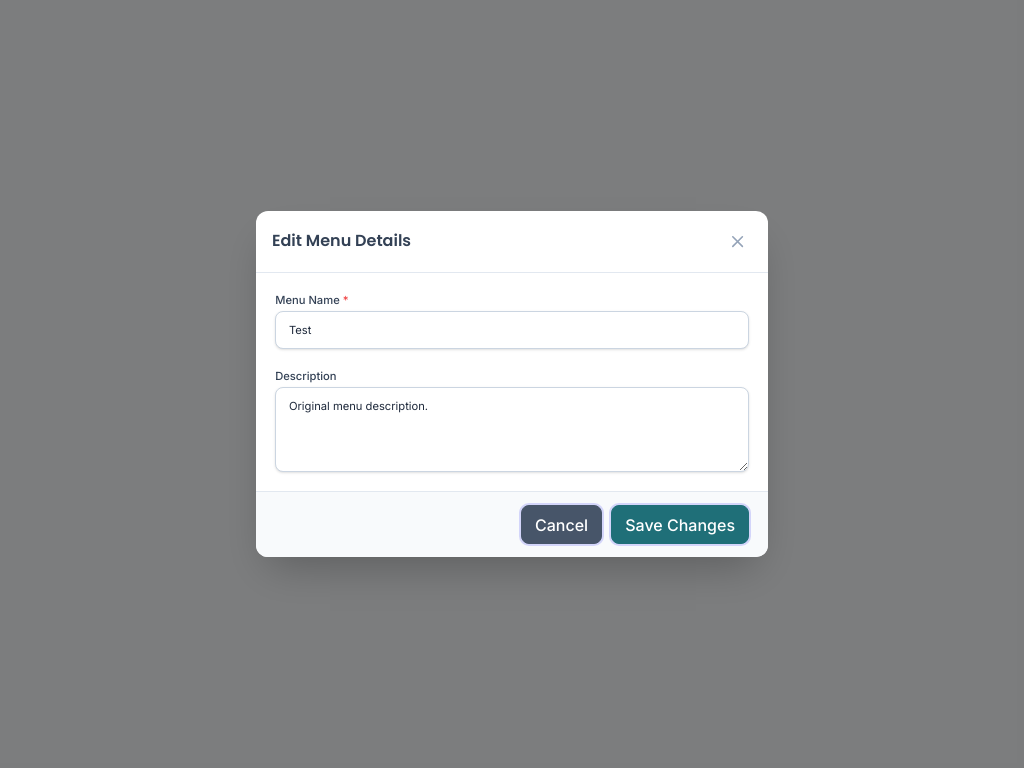
Test: MenuDetailsEditModal Component › enables save button if menu name is not empty
Check: the button "Save Changes" is enabled, box [612,505,749,544]
Clear the field labelled "Menu Name *" at (512, 330), box [275,311,749,349]
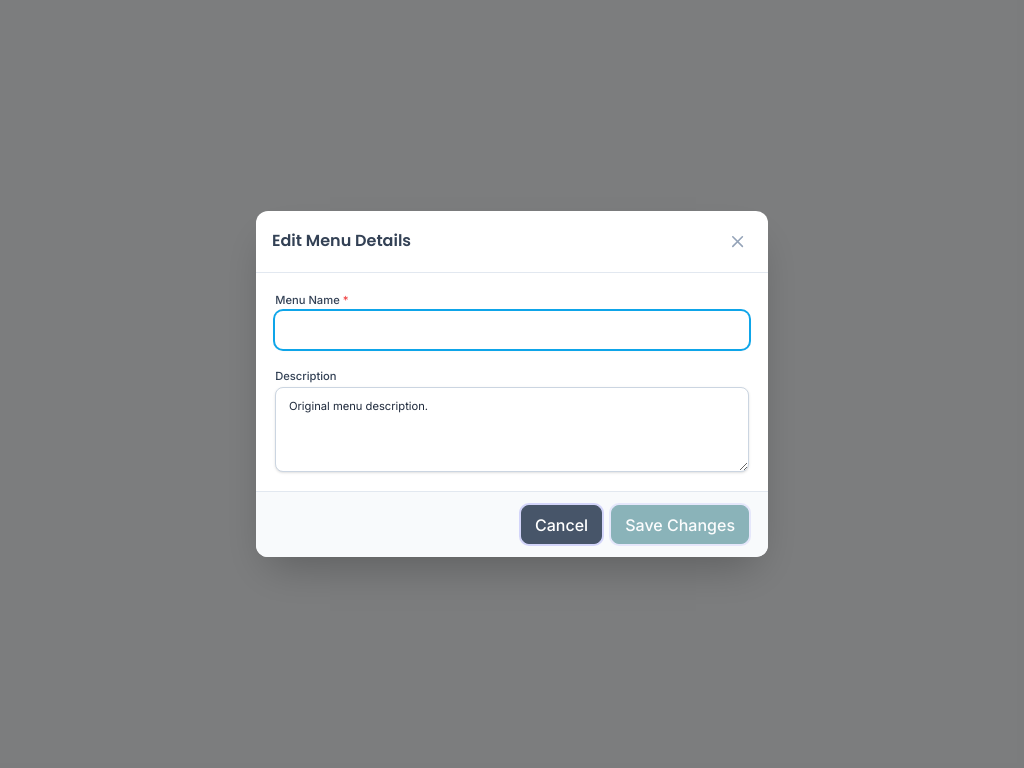
Check: the button "Save Changes" is disabled, box [612,505,749,544]
